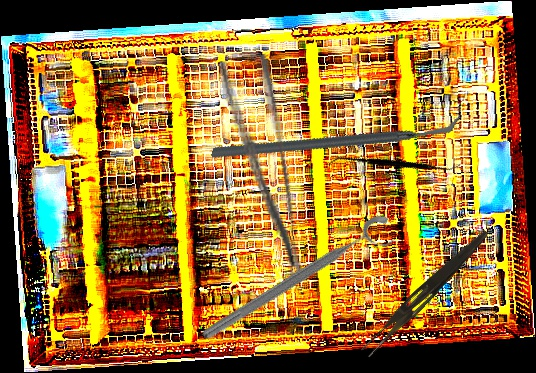Chopper: (210, 46, 462, 228)
Dressing Forceps: (218, 53, 307, 290), (359, 223, 492, 363)
Fixation Ring: (197, 210, 403, 356)
Spatula Surgical: (328, 107, 461, 222)
